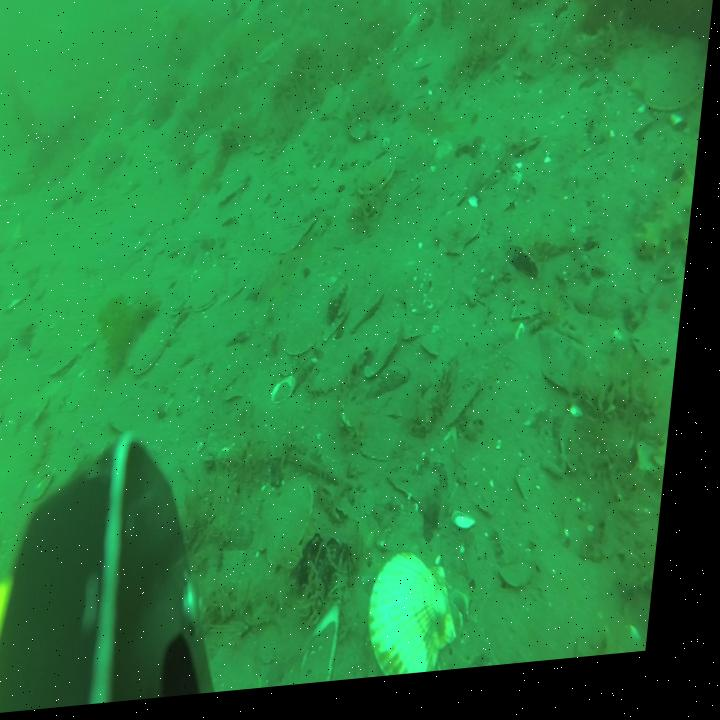scallop: (375, 551, 478, 687), (629, 54, 711, 142), (393, 234, 468, 330), (267, 484, 327, 576), (637, 309, 690, 386), (364, 329, 414, 397), (135, 319, 185, 384), (441, 214, 488, 270), (359, 157, 405, 213), (352, 293, 391, 345), (294, 316, 332, 367), (507, 569, 552, 611), (198, 269, 235, 320), (0, 512, 18, 587), (323, 90, 347, 126), (428, 341, 452, 371), (405, 326, 430, 352), (197, 132, 218, 162)
